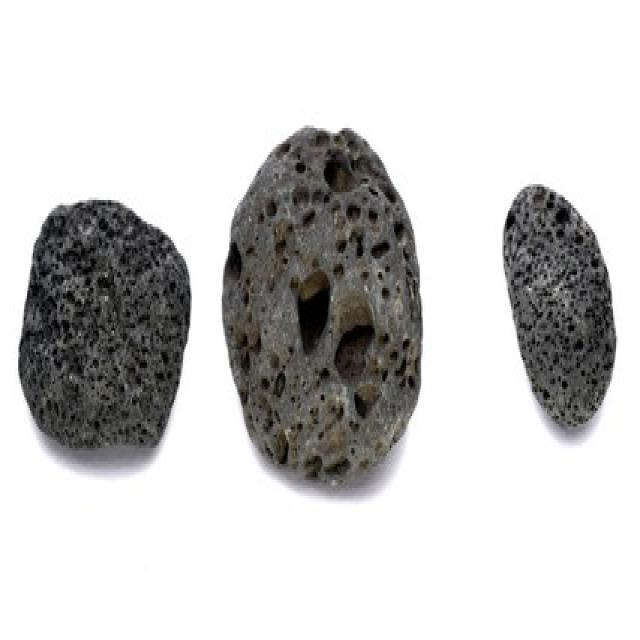Igneous: (222, 120, 428, 493), (13, 187, 200, 461), (493, 181, 627, 443)
